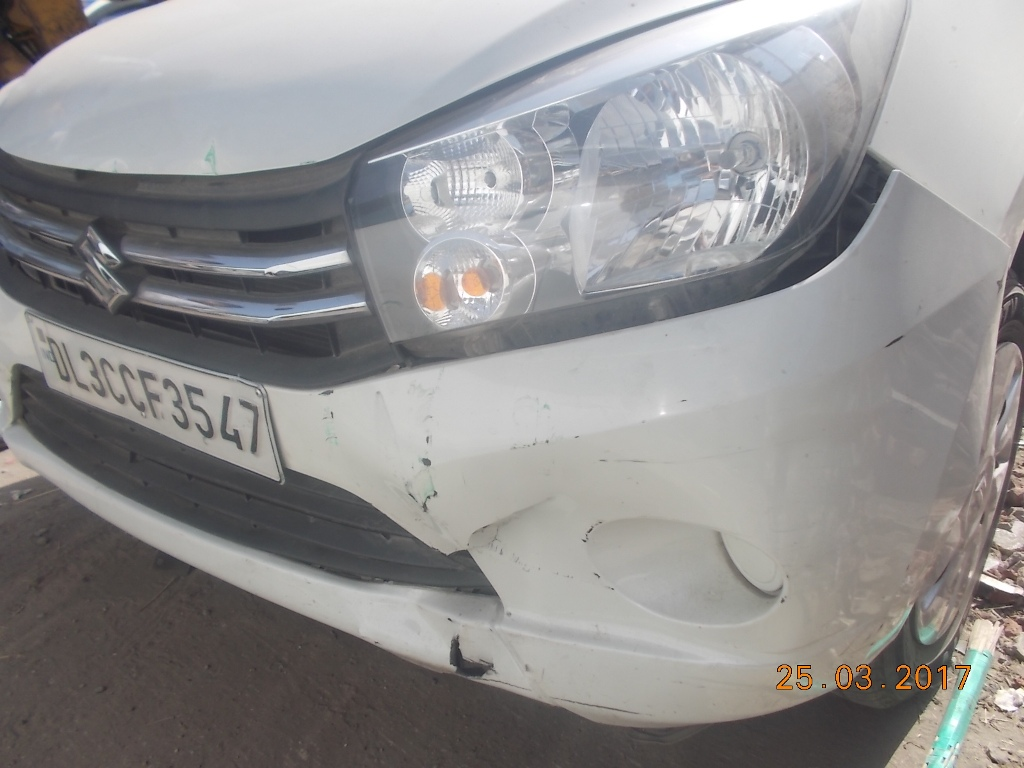Tear: (442, 623, 490, 685)
